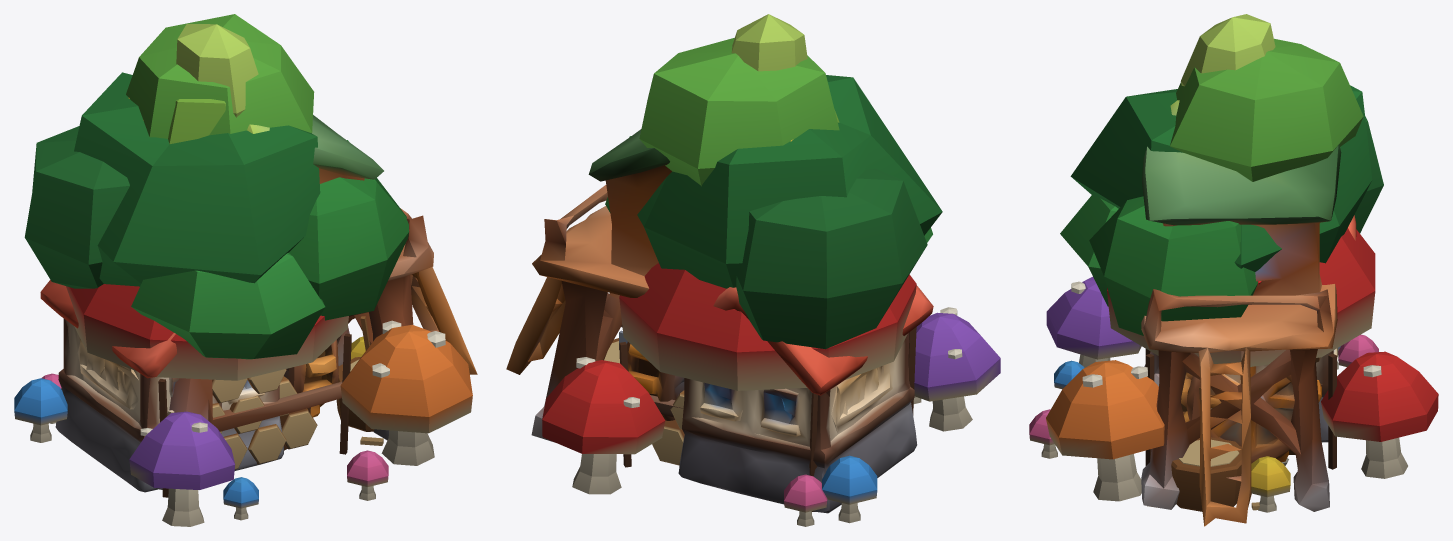
The model's file is scenery-forest.glb.
3 renders of one model, left to right at view 1: azimuth 30°, elevation 25°; view 2: azimuth 150°, elevation 25°; view 3: azimuth 270°, elevation 25°, orthographic. The views are drawn at different scales.
Parts seen in each view (by area): view 1: prop-oak, prop-mushroom_cluster, prop-watermill, prop-hunting_hide, prop-log_pile, prop-birch; view 2: prop-oak, prop-mushroom_cluster, prop-watermill, prop-hunting_hide, prop-birch, prop-log_pile; view 3: prop-oak, prop-hunting_hide, prop-mushroom_cluster, prop-watermill, prop-log_pile, prop-birch.
Part boxes in pixels (box(x1,y1,x2,y2)): prop-oak: box(24, 14, 409, 359); prop-mushroom_cluster: box(14, 284, 472, 526); prop-watermill: box(40, 280, 338, 492); prop-hunting_hide: box(156, 115, 477, 489); prop-log_pile: box(158, 316, 383, 497); prop-birch: box(128, 24, 258, 144); prop-oak: box(605, 38, 942, 349); prop-mushroom_cluster: box(542, 263, 1000, 526); prop-watermill: box(627, 285, 933, 513); prop-hunting_hide: box(506, 129, 683, 442); prop-birch: box(731, 14, 839, 141); prop-log_pile: box(604, 327, 916, 511); prop-oak: box(1060, 38, 1383, 335); prop-hunting_hide: box(1141, 100, 1341, 526); prop-mushroom_cluster: box(1029, 228, 1438, 512); prop-watermill: box(1181, 215, 1356, 463); prop-log_pile: box(1145, 349, 1336, 511); prop-birch: box(1180, 14, 1275, 86).
Size of the model in its own units: 10.59 by 10.61 by 9.4.
